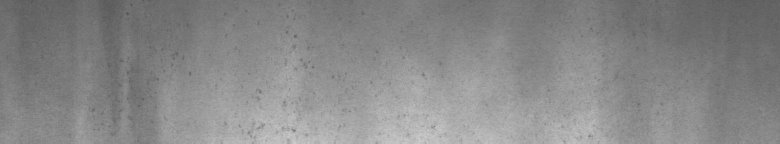ib: (253, 31, 356, 136)
